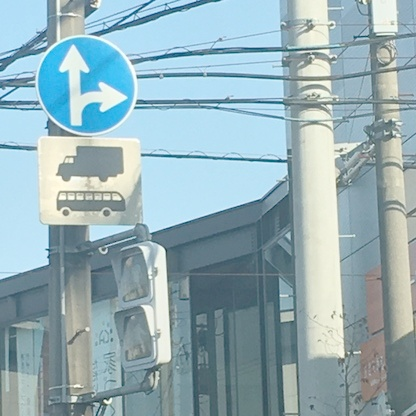Direction_sign: (33, 37, 144, 139)
